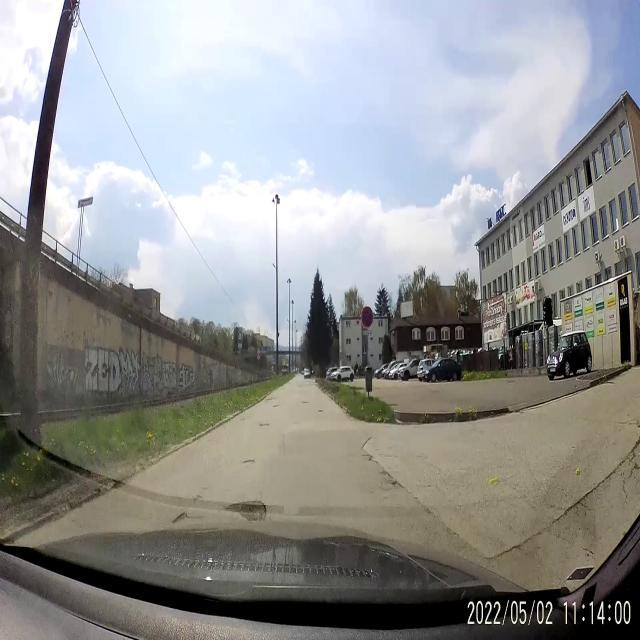Pothole: (228, 492, 268, 524), (358, 432, 376, 465), (382, 468, 402, 497), (170, 502, 192, 527), (239, 452, 258, 474), (268, 402, 286, 412), (254, 420, 272, 428), (300, 398, 310, 407), (318, 408, 326, 414)
